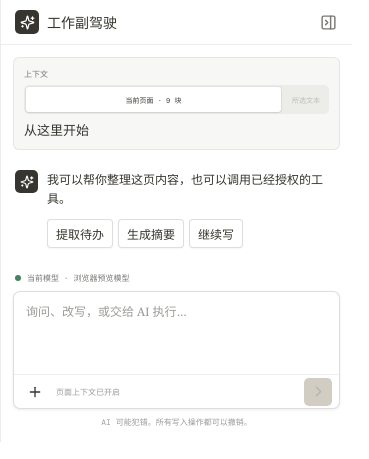
Test: AIPanel › explains why selected text is unavailable
The width and height of the screenshot is (369, 459).
What coordinates should you click on to do the following:
click the button named "选择 AI 上下文"
I would click on:
 (35, 392)
Its box is [21,378,49,406].
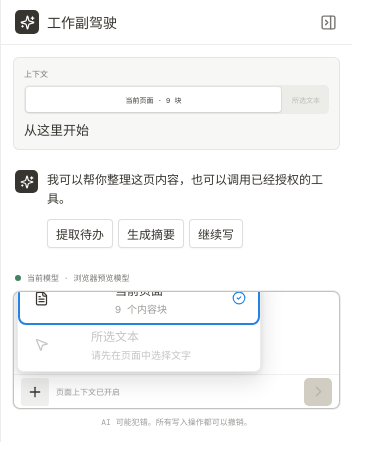
Result: the menu item "所选文本 请先在页面中选择文字" is disabled at [22,321,256,367]
